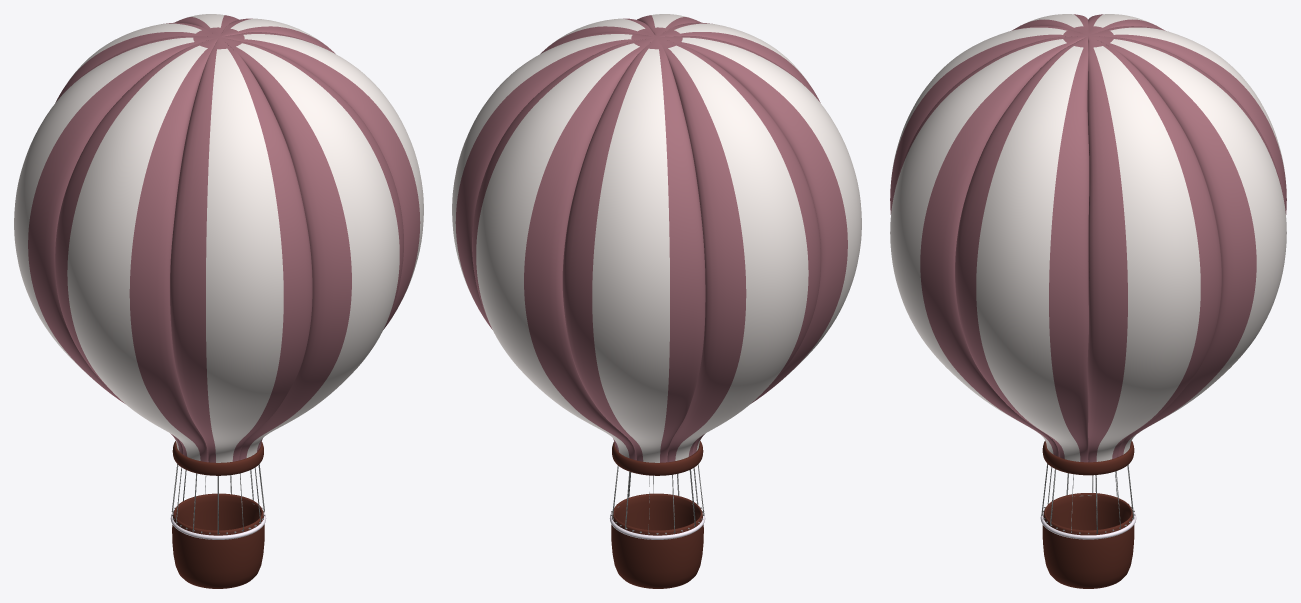
3 views of the same model, side by side, from view 1: azimuth 30°, elevation 25°; view 2: azimuth 150°, elevation 25°; view 3: azimuth 270°, elevation 25° (orthographic).
Parts seen in each view (by area): view 1: Sphere, Circle, Circle.001, Cycloid.001; view 2: Sphere, Circle, Circle.001, Cycloid.001; view 3: Sphere, Circle, Circle.001, Cycloid.001, BezierCircle.
Part boxes in pixels (bbox=[...]): Sphere: bbox=[14, 14, 423, 462]; Circle: bbox=[172, 493, 264, 588]; Circle.001: bbox=[172, 441, 263, 475]; Cycloid.001: bbox=[171, 464, 265, 534]; Sphere: bbox=[452, 14, 861, 462]; Circle: bbox=[611, 493, 703, 588]; Circle.001: bbox=[612, 441, 703, 475]; Cycloid.001: bbox=[610, 464, 704, 534]; Sphere: bbox=[890, 14, 1286, 462]; Circle: bbox=[1042, 493, 1134, 588]; Circle.001: bbox=[1042, 441, 1134, 475]; Cycloid.001: bbox=[1041, 463, 1135, 533]; BezierCircle: bbox=[1040, 509, 1136, 539].
Size of the model in its own units: 777 by 1169 by 777.
